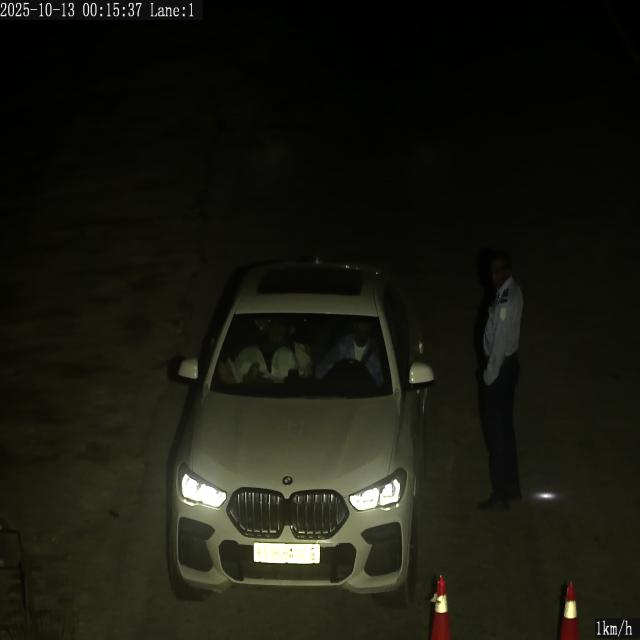BUS: (253, 542, 320, 563)
